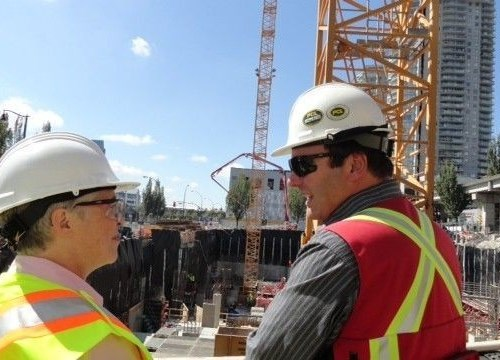Hard Hat: (1, 127, 147, 211), (269, 81, 391, 158)
High Viz: (331, 195, 462, 359), (1, 271, 155, 360)
